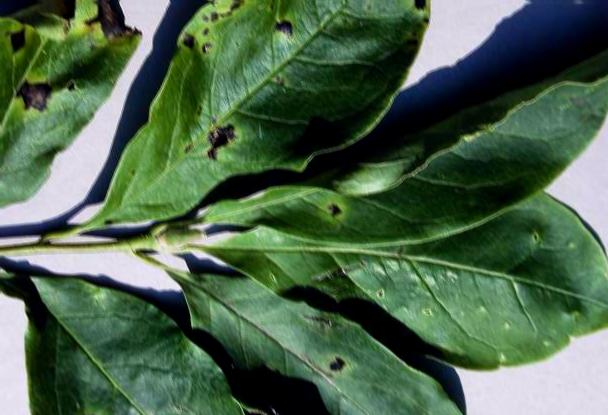Tomato leaf bacterial spot: (206, 29, 608, 240), (93, 0, 437, 236), (136, 256, 479, 415), (0, 0, 132, 231)
